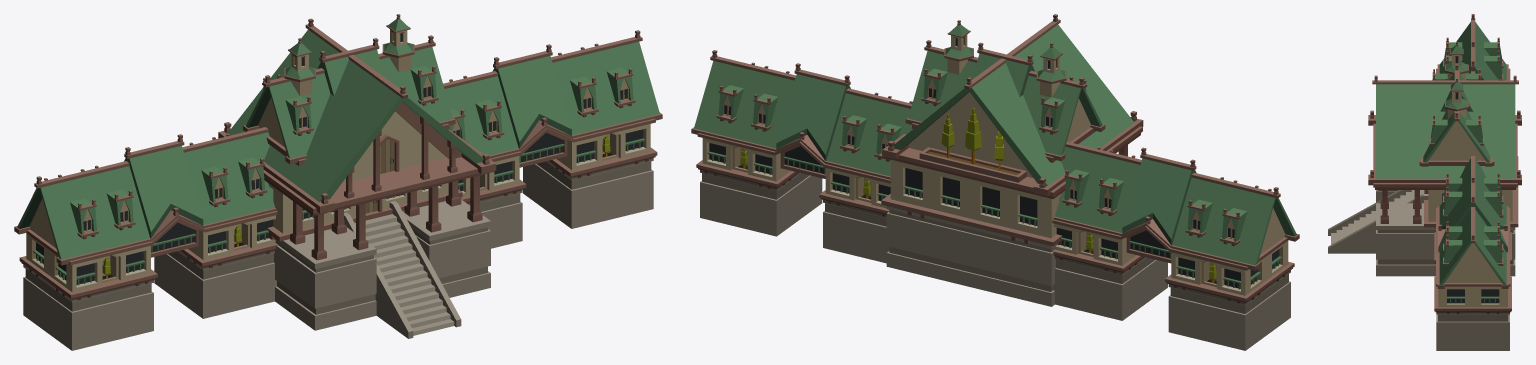
The model's file is AboutMe_House.gltf.
The picture shows the model from 3 angles, left to right: view 1: azimuth 30°, elevation 25°; view 2: azimuth 150°, elevation 25°; view 3: azimuth 270°, elevation 25°; orthographic projection. The views are drawn at different scales.
Parts seen in each view (by area): view 1: SF_Bld_Elven_House_07; view 2: SF_Bld_Elven_House_07; view 3: SF_Bld_Elven_House_07.
Boxes of the visible parts, x1,y1,x2,y2 form: SF_Bld_Elven_House_07: [14, 14, 662, 350]; SF_Bld_Elven_House_07: [691, 14, 1299, 350]; SF_Bld_Elven_House_07: [1328, 14, 1521, 350].
Size of the model in its own units: 0.919 by 0.353 by 0.3381.
1 material, 1 textured.
